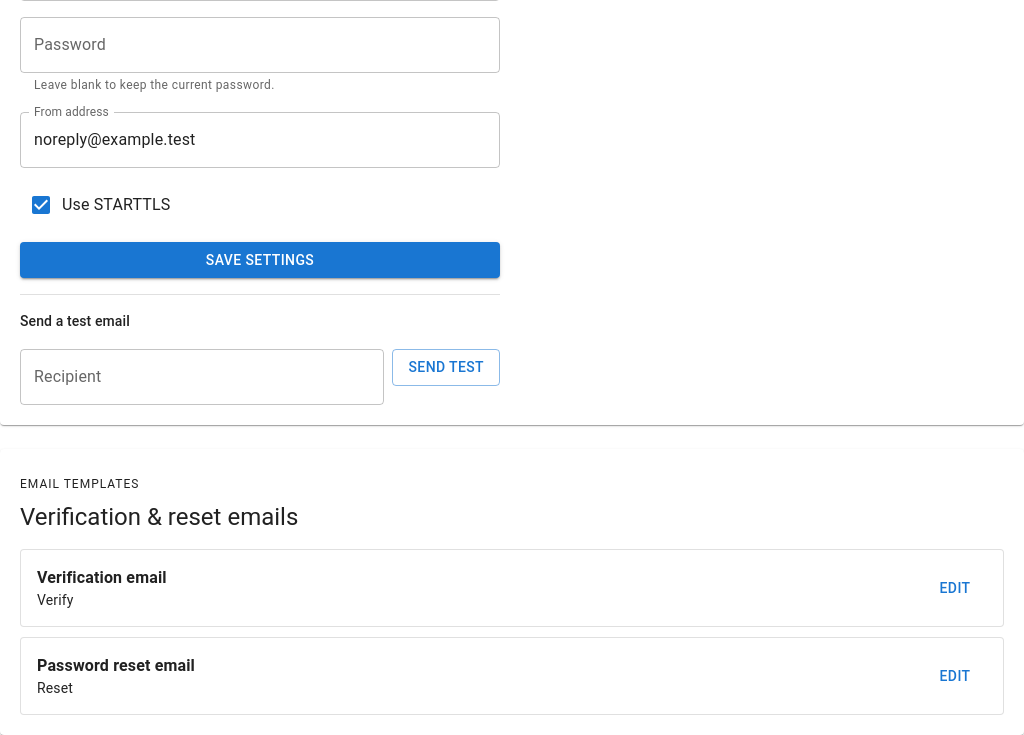
it: requires a template subject and body
(page scrolled)
Step 1. Click the button "Edit" in the row of "Verification email" → coordinates (955, 588), box [923, 570, 987, 606]
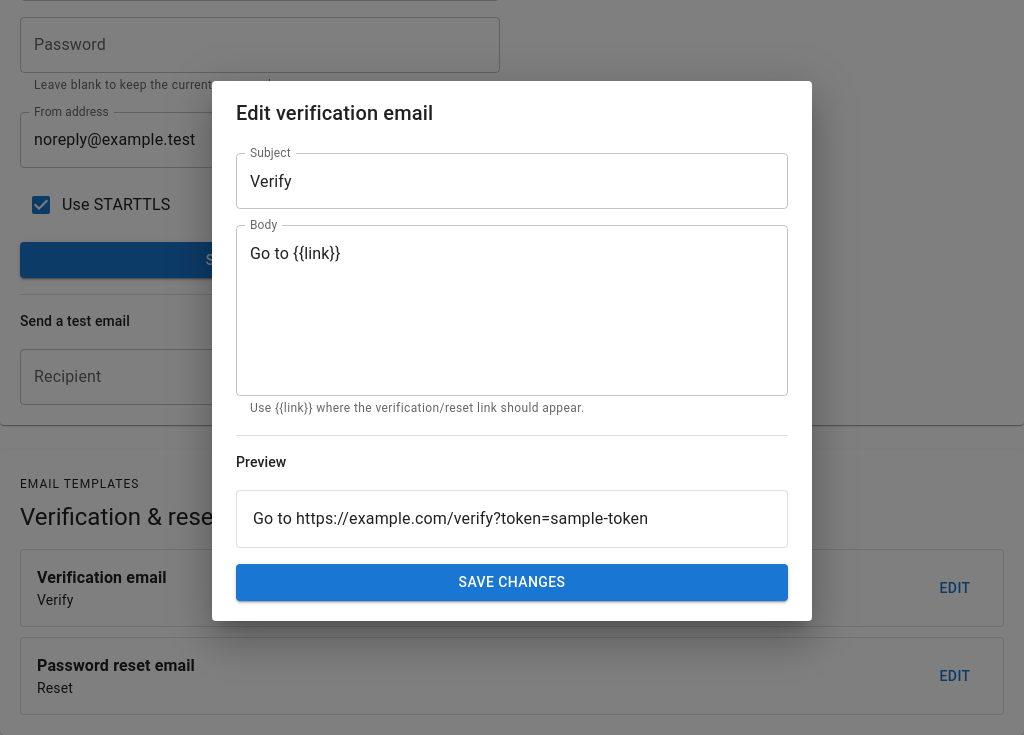
Step 2. Clear the field labelled "Subject" → coordinates (512, 181), box [236, 153, 788, 209]
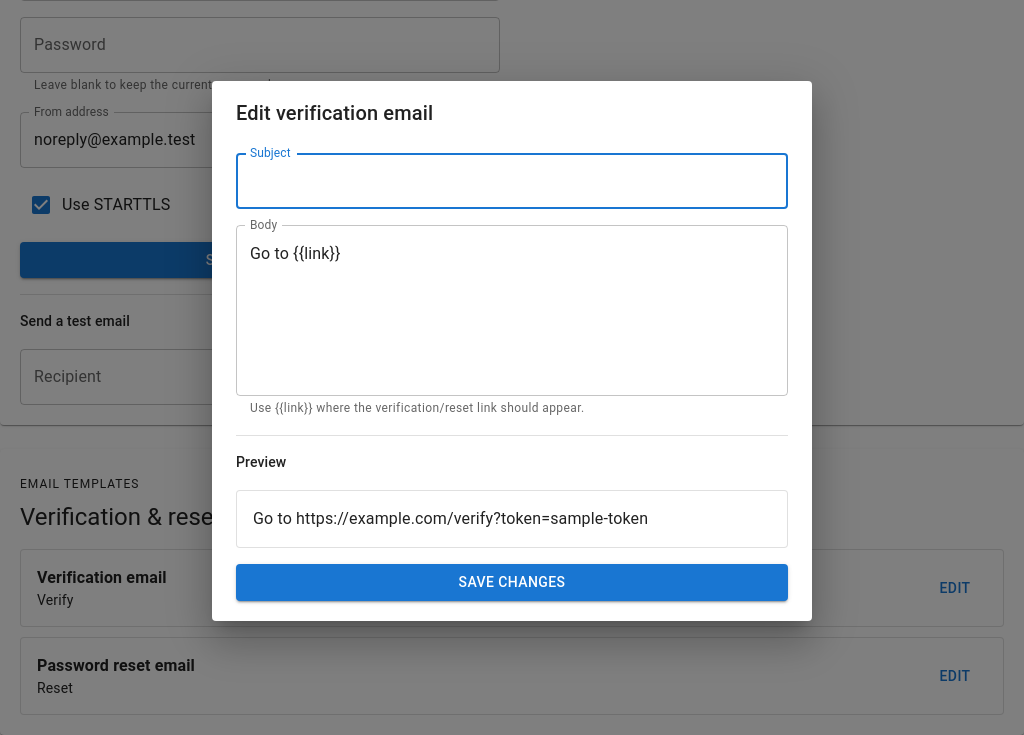
Step 3. Click the button "Save changes" → coordinates (512, 582), box [236, 564, 788, 601]
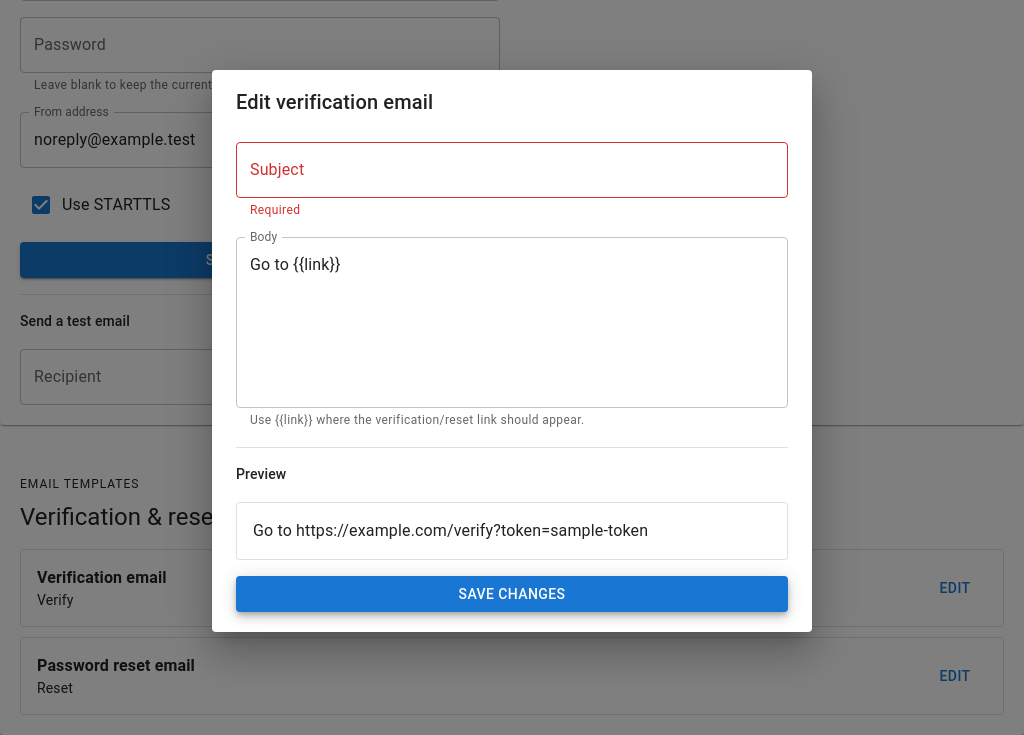
Expected: the text "Required" is shown, [250, 203, 300, 217]
